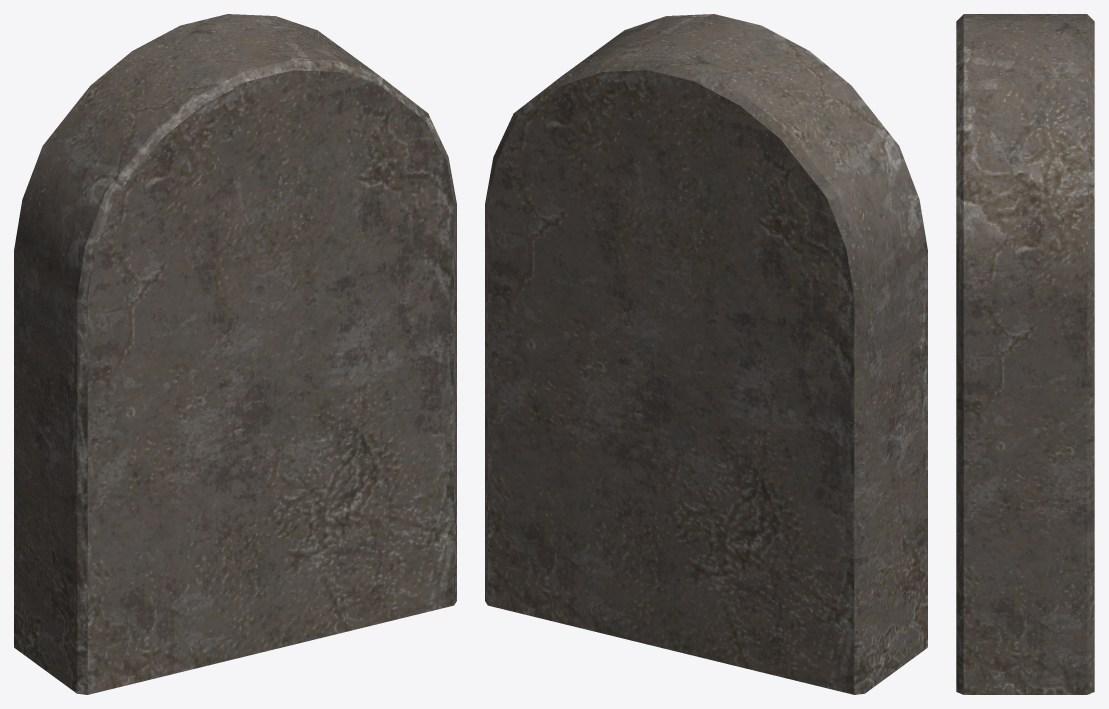
File: HeadStone.fbx
The picture shows the model from 3 angles, left to right: view 1: azimuth 30°, elevation 25°; view 2: azimuth 150°, elevation 25°; view 3: azimuth 270°, elevation 25°; orthographic projection. The views are drawn at different scales.
Parts seen in each view (by area): view 1: Trim_HeadStone; view 2: Trim_HeadStone; view 3: Trim_HeadStone.
Part boxes in pixels (left/top/right/bottom): Trim_HeadStone: left=14, top=14, right=456, bottom=694; Trim_HeadStone: left=485, top=14, right=927, bottom=694; Trim_HeadStone: left=956, top=14, right=1094, bottom=694.
Size of the model in its own units: 60 by 87.79 by 19.36.
